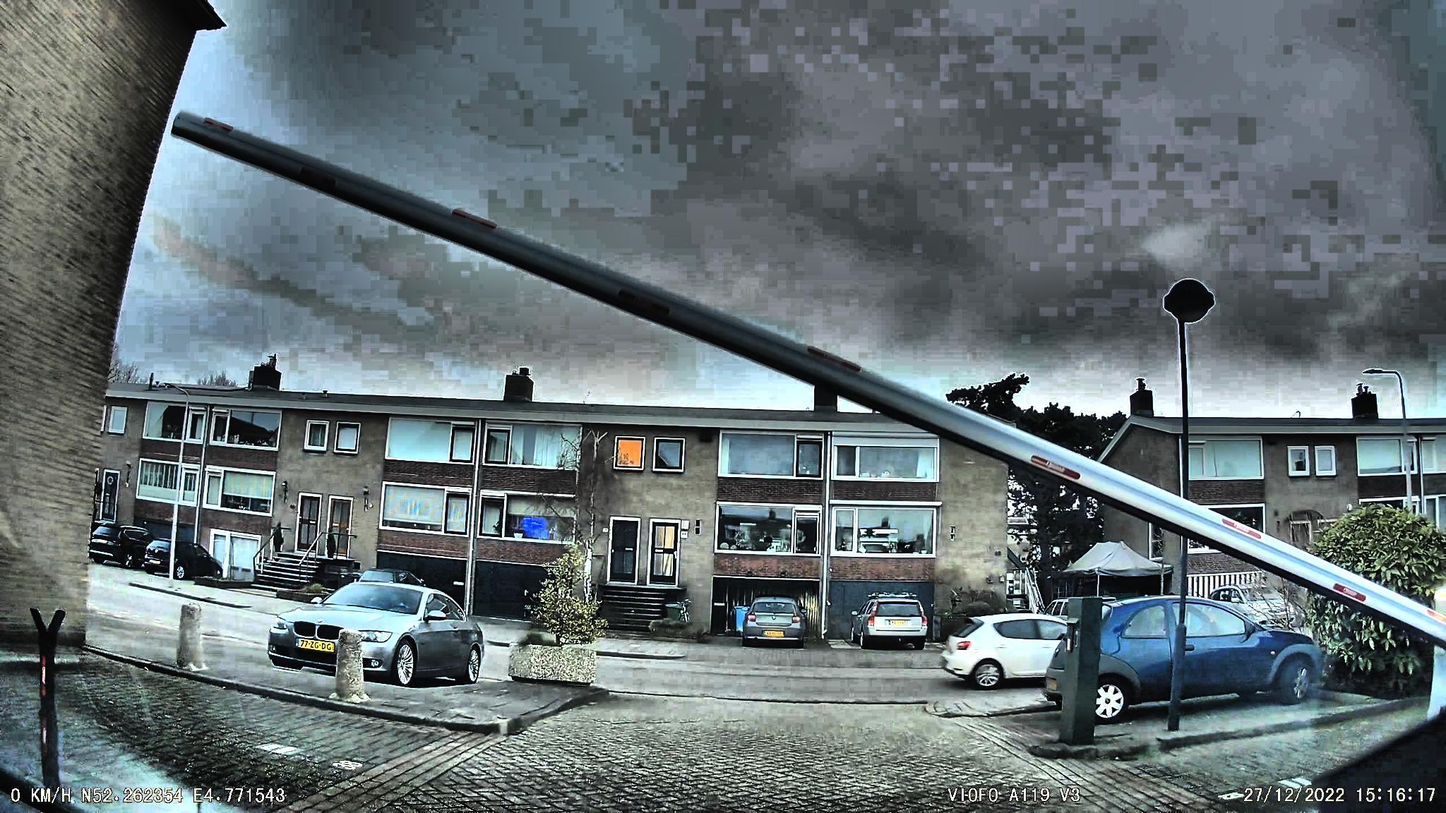Roads: (283, 655, 1083, 813)
